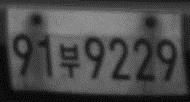1: (36, 33, 55, 78)
2: (131, 36, 156, 83), (108, 35, 131, 81)
9: (155, 37, 179, 82), (11, 32, 34, 78), (83, 35, 106, 80)
부: (58, 40, 81, 80)
